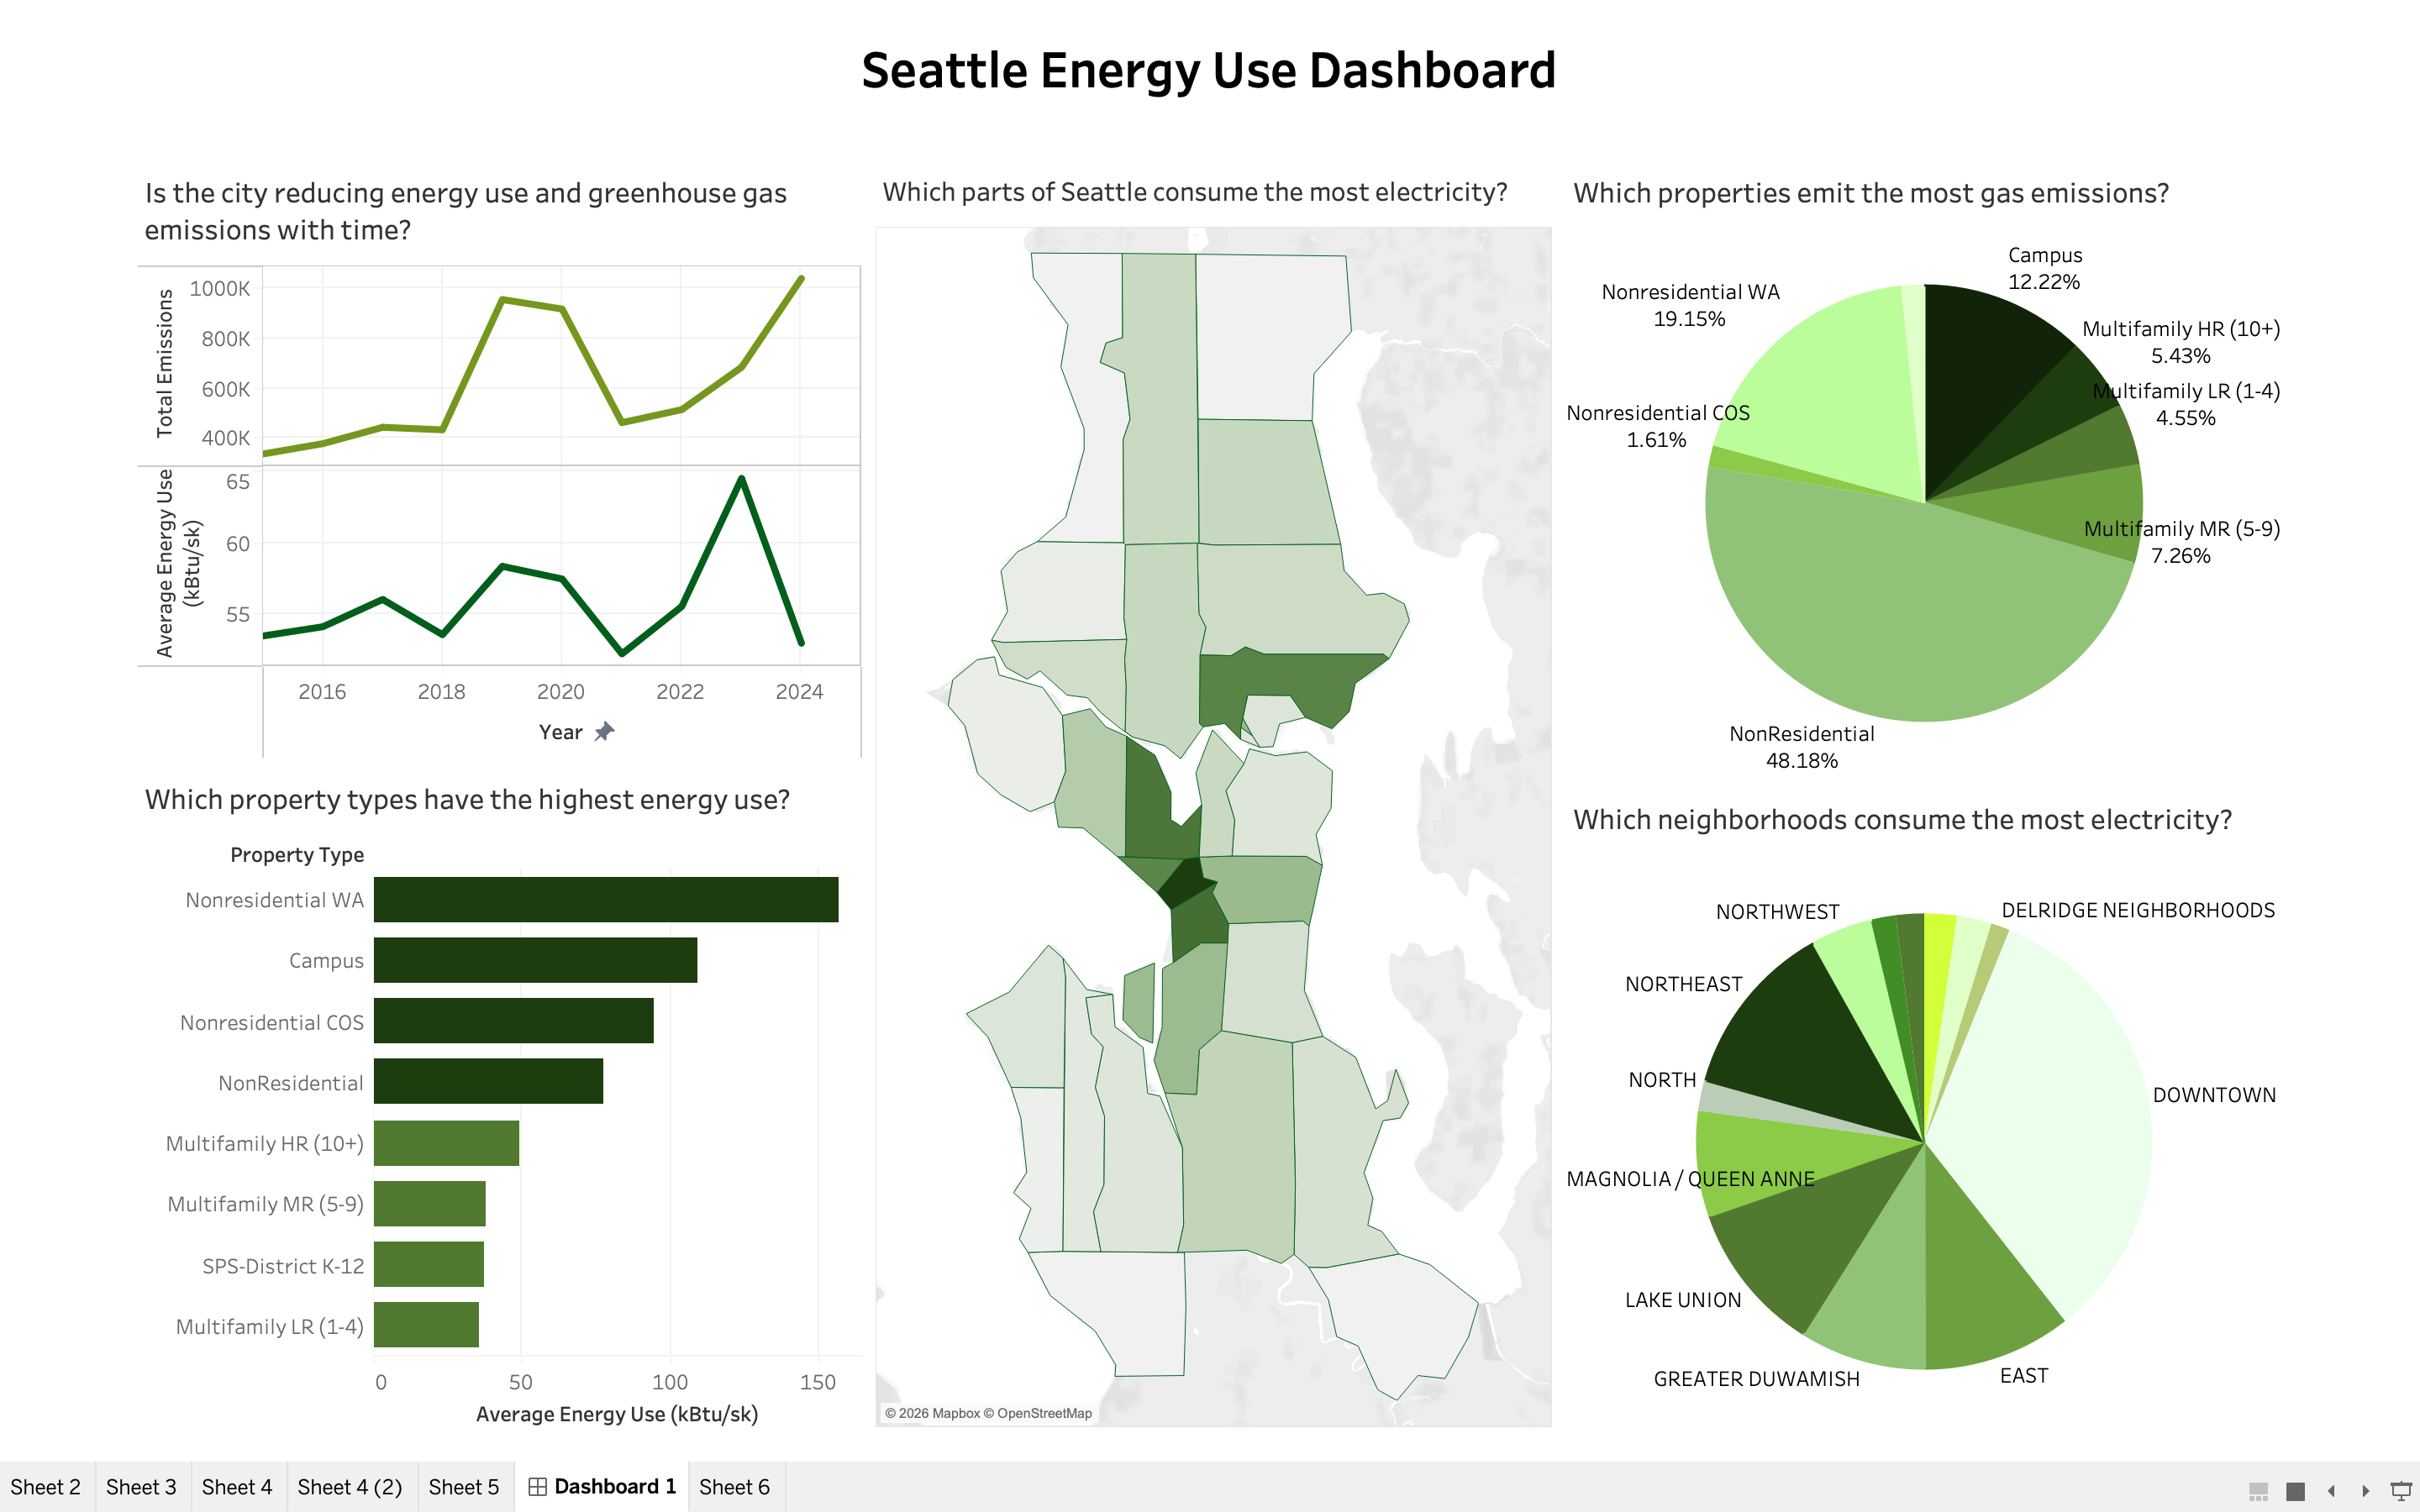

The page's visual inventory and layout, read from the dashboard file:
{"tool":"tableau","page":{"name":"Dashboard 1","canvas":[1000,1000],"units":"permille","ordinal":0},"visuals":[{"type":"title","box":[6.7,10.6,986.7,63.7]},{"type":"worksheet","title":"Sheet 2","mark":"Automatic","rows":["total_emissions","avg_eui"],"cols":["year"],"box":[6.7,103.5,337.5,443]},{"type":"worksheet","title":"Sheet 5","mark":"Automatic","box":[344.1,103.5,315.8,885.9]},{"type":"worksheet","title":"Sheet 4","mark":"Pie","box":[660,103.5,333.4,434.9]},{"type":"worksheet","title":"Sheet 4 (2)","mark":"Pie","box":[660,538.4,333.4,451]},{"type":"worksheet","title":"Sheet 3","mark":"Automatic","rows":["property_type"],"cols":["avg_eui (Average_efficiency_by_property_type.csv)"],"box":[6.7,546.4,337.5,443]}]}

Visuals, with their boxes on the dashboard's canvas, which has no fixed pixel size, in thousandths of its width and height (x1, y1, x2, y2). These are canvas units, not pixel positions in the 2420x1512 screenshot, which may show the page scaled, cropped or inside an application window:
title: {"x1": 7, "y1": 11, "x2": 993, "y2": 74}
"Sheet 2" worksheet: {"x1": 7, "y1": 104, "x2": 344, "y2": 546}
"Sheet 5" worksheet: {"x1": 344, "y1": 104, "x2": 660, "y2": 989}
"Sheet 4" worksheet (Pie marks): {"x1": 660, "y1": 104, "x2": 993, "y2": 538}
"Sheet 4 (2)" worksheet (Pie marks): {"x1": 660, "y1": 538, "x2": 993, "y2": 989}
"Sheet 3" worksheet: {"x1": 7, "y1": 546, "x2": 344, "y2": 989}
